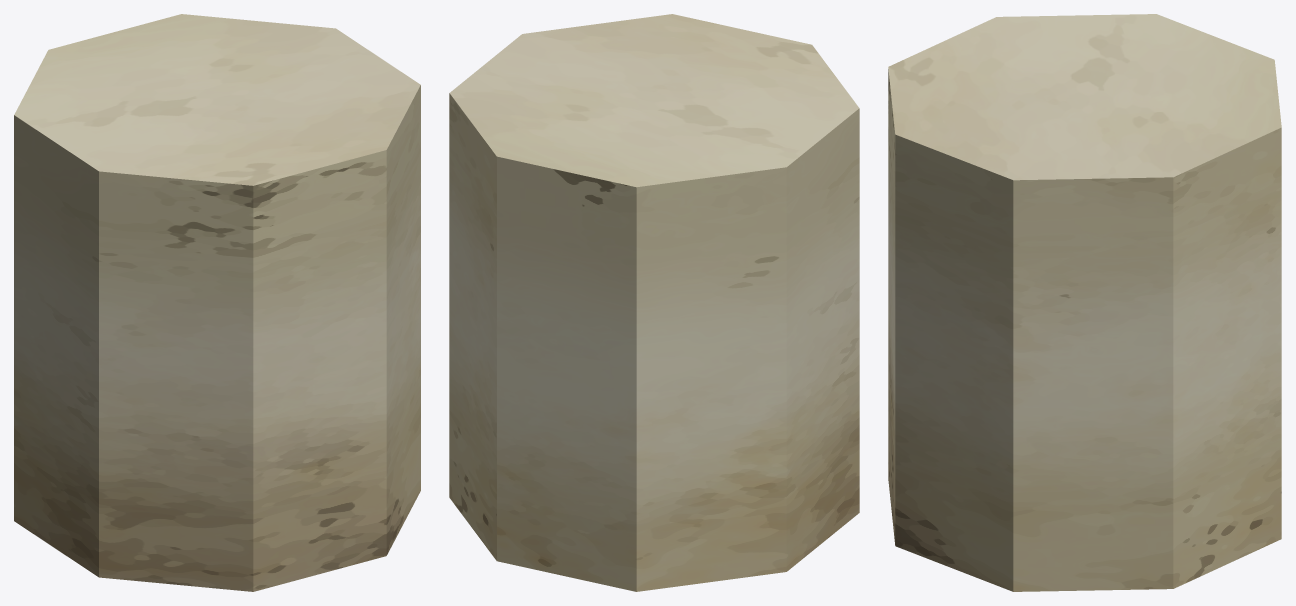
Rendered from Building_7.FBX.
3 views of the same model, side by side, from view 1: azimuth 30°, elevation 25°; view 2: azimuth 150°, elevation 25°; view 3: azimuth 270°, elevation 25° (orthographic).
Parts seen in each view (by area): view 1: Cylinder003; view 2: Cylinder003; view 3: Cylinder003.
Part boxes in pixels (bbox=[...]): Cylinder003: bbox=[14, 14, 420, 591]; Cylinder003: bbox=[449, 14, 859, 591]; Cylinder003: bbox=[888, 14, 1281, 591].
Bounding box in the file's own units: 179 × 207 × 179.
